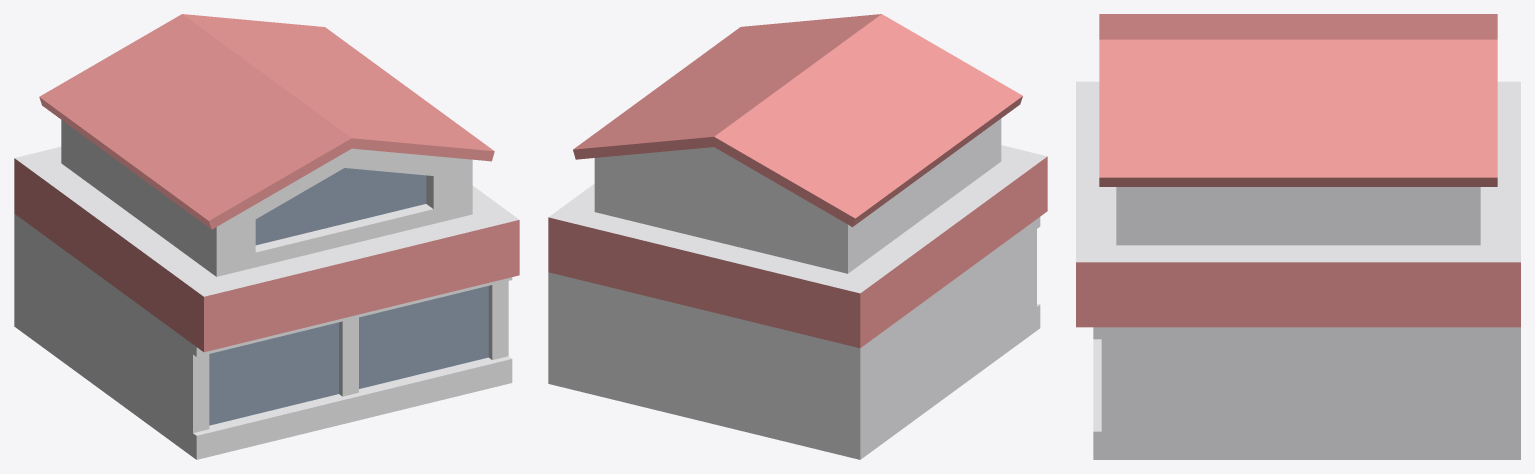
File: pitsOfficeRoof.glb
3 views of the same model, side by side, from view 1: azimuth 30°, elevation 25°; view 2: azimuth 150°, elevation 25°; view 3: azimuth 270°, elevation 25° (orthographic). The views are drawn at different scales.
Parts seen in each view (by area): view 1: pitsOfficeRoof; view 2: pitsOfficeRoof; view 3: pitsOfficeRoof.
Boxes of the visible parts, x1,y1,x2,y2 form: pitsOfficeRoof: (14,14,519,459); pitsOfficeRoof: (548,14,1047,459); pitsOfficeRoof: (1076,14,1520,459).
Size of the model in its own units: 1 by 0.8515 by 1.04.
